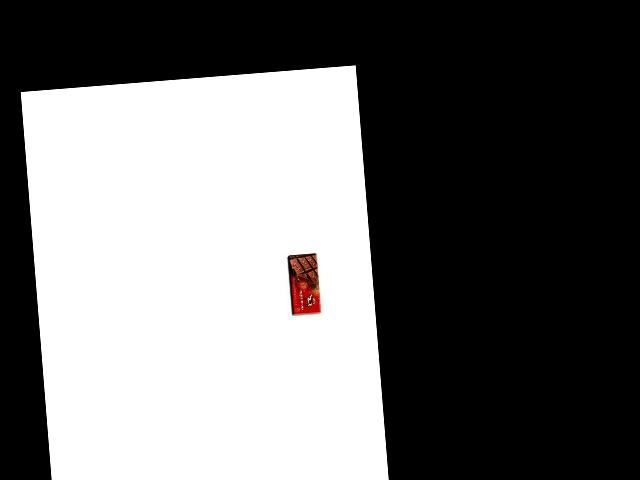chocolate: (286, 251, 322, 316)
